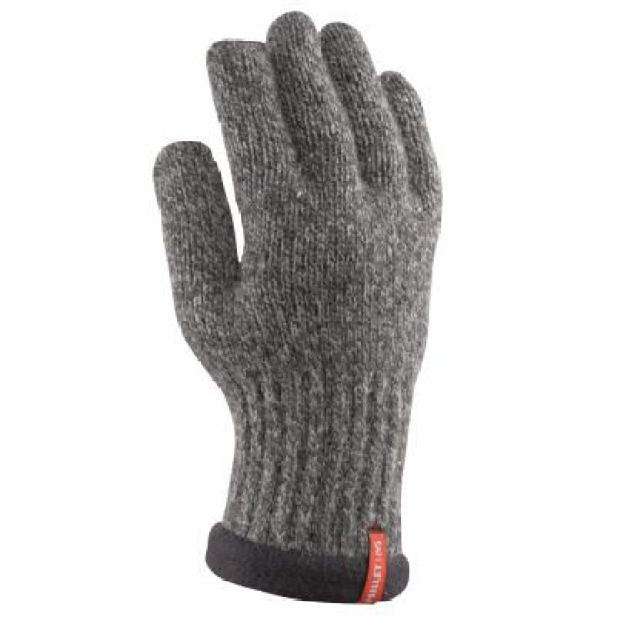Gloves: (147, 11, 445, 607)
